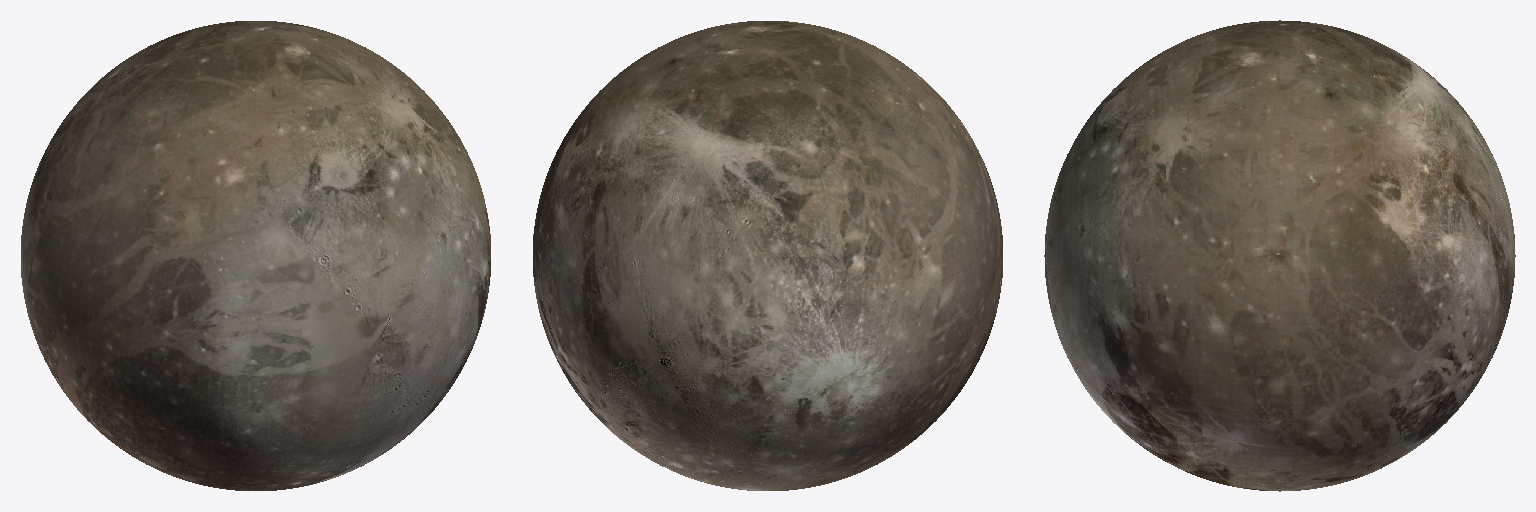
3 renders of one model, left to right at view 1: azimuth 30°, elevation 25°; view 2: azimuth 150°, elevation 25°; view 3: azimuth 270°, elevation 25°, orthographic.
Visible parts, largest first — view 1: Sphere.001; view 2: Sphere.001; view 3: Sphere.001.
Part boxes in pixels (x1,y1,x2,y2): Sphere.001: (21, 21, 490, 490); Sphere.001: (533, 21, 1002, 490); Sphere.001: (1044, 20, 1515, 491).
Size of the model in its own units: 5268 by 5268 by 5268.
1 materials, 1 textured.